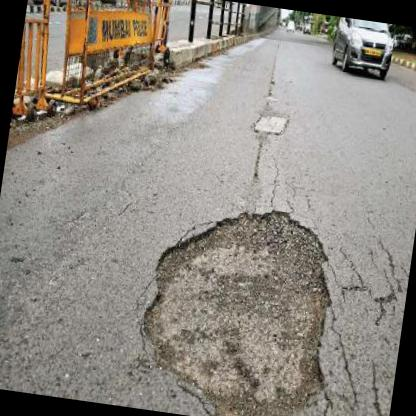pothole: (125, 185, 347, 416)
